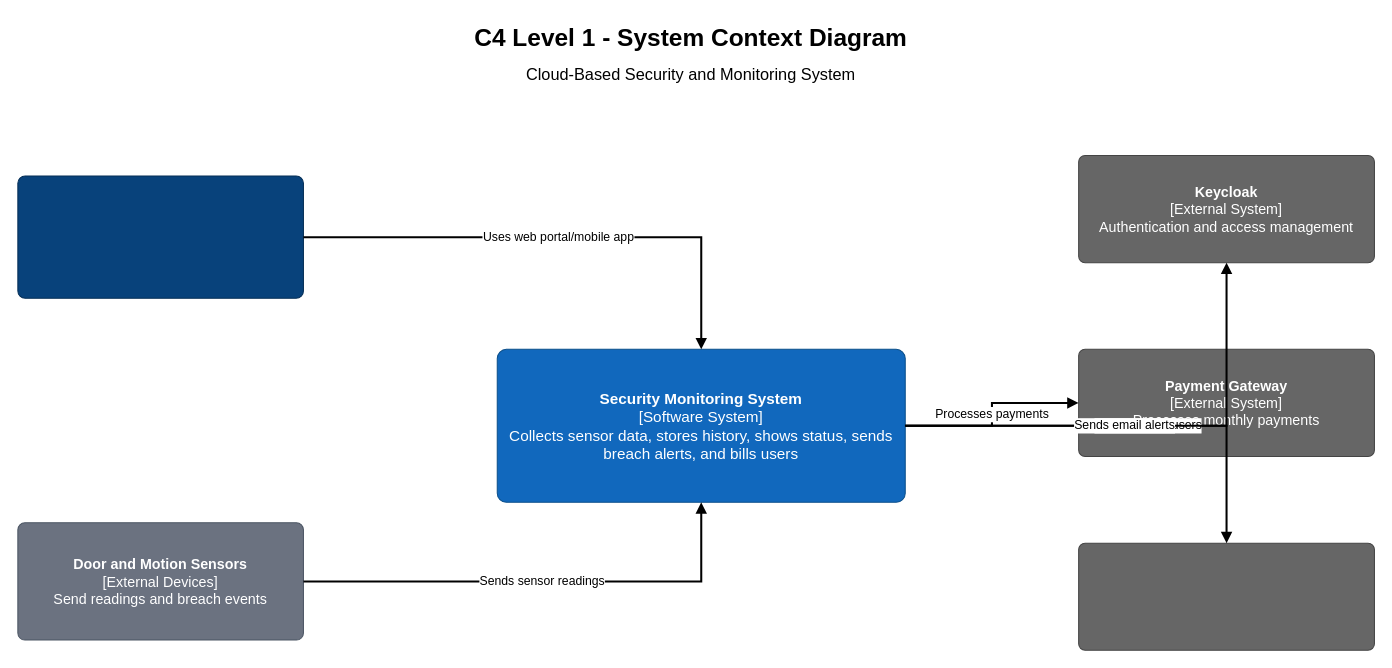
Some shapes in this 1392 by 668 pixel diagram are drawn without their labels. The shapes that lost their labels are listed below. From the top down, each one's centre as x and y in pixels, then its label:
At pixel 160 236: "User [Person] Registers sensors, monitors status, views alerts, pays monthly fee".
At pixel 1226 596: "Email Service [External System] Sends breach notification emails".
